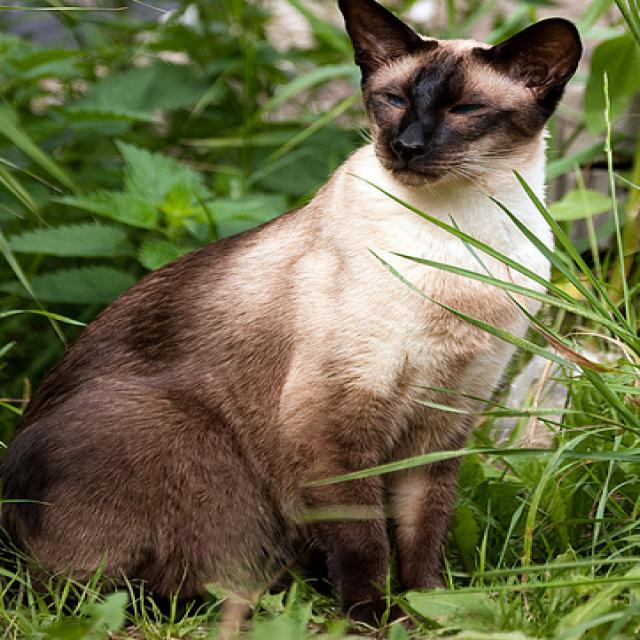Siamese: (0, 0, 585, 637)
